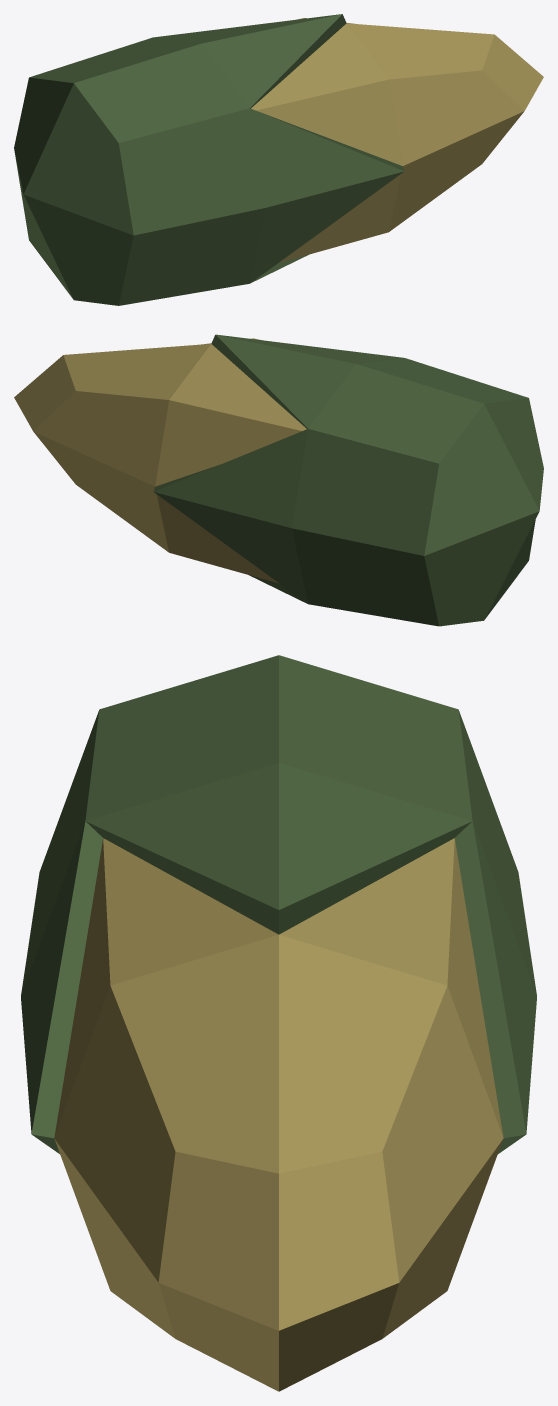
The model's file is corn_crop.gltf.
3 views of the same model, one above another, from view 1: azimuth 30°, elevation 25°; view 2: azimuth 150°, elevation 25°; view 3: azimuth 270°, elevation 25° (orthographic). The views are drawn at different scales.
Visible parts, largest first — view 1: corn_crop; view 2: corn_crop; view 3: corn_crop.
Part boxes in pixels (x1,y1,x2,y2): corn_crop: [14, 14, 543, 305]; corn_crop: [14, 334, 543, 626]; corn_crop: [21, 655, 536, 1391].
Size of the model in its own units: 0.3482 by 0.1488 by 0.1488.
1 material, 1 textured.
